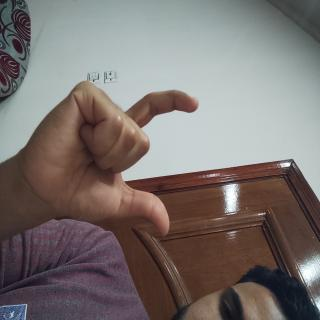NOON: (57, 152, 189, 320)
